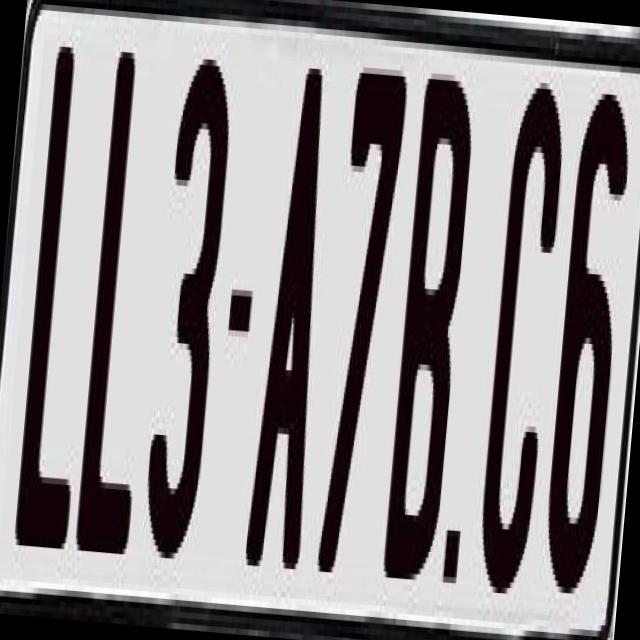3: (135, 56, 238, 590)
6: (537, 75, 632, 594)
7: (312, 66, 408, 598)
A: (242, 54, 346, 575)
B: (377, 66, 473, 586)
C: (476, 63, 574, 584)
L: (70, 51, 170, 584), (12, 34, 114, 555)
